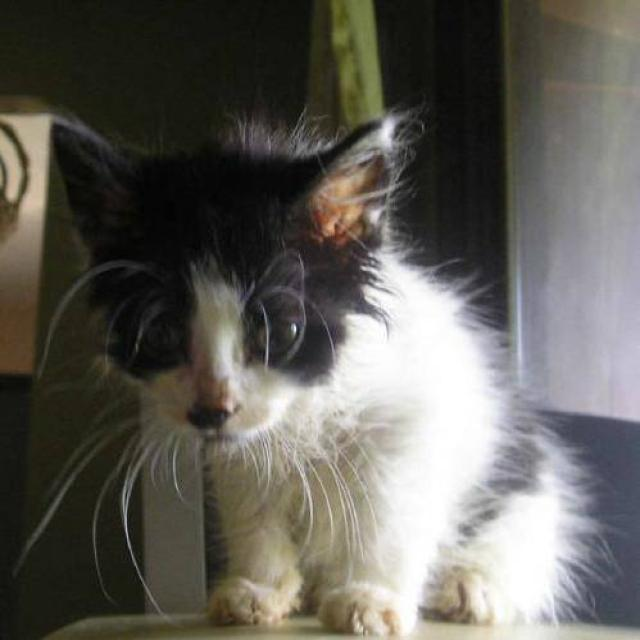cat: (11, 102, 624, 637)
